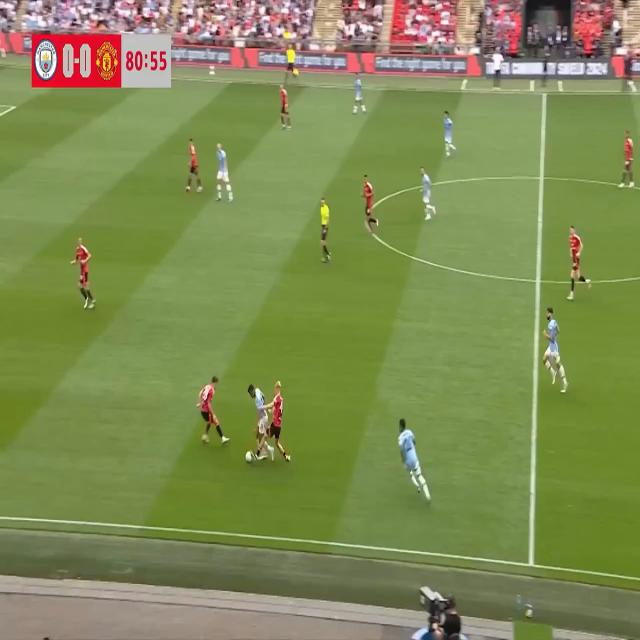ball: (243, 446, 254, 474)
players: (396, 412, 434, 506), (194, 367, 230, 452), (262, 380, 294, 467), (541, 305, 571, 396), (68, 230, 98, 311), (247, 383, 277, 463), (567, 224, 595, 308), (362, 169, 386, 244), (182, 134, 204, 198), (418, 158, 439, 225), (214, 140, 233, 205), (619, 128, 636, 194), (442, 103, 459, 164), (276, 80, 292, 134), (351, 68, 367, 120)
refree: (317, 193, 335, 268), (282, 40, 303, 83)
